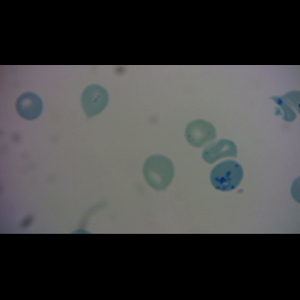aggregate reticulocyte: (209, 158, 244, 192)
erythrocyte: (142, 153, 176, 192), (80, 83, 110, 120), (14, 91, 44, 122)
punctate reticulocyte: (183, 118, 219, 149), (201, 138, 240, 164)
